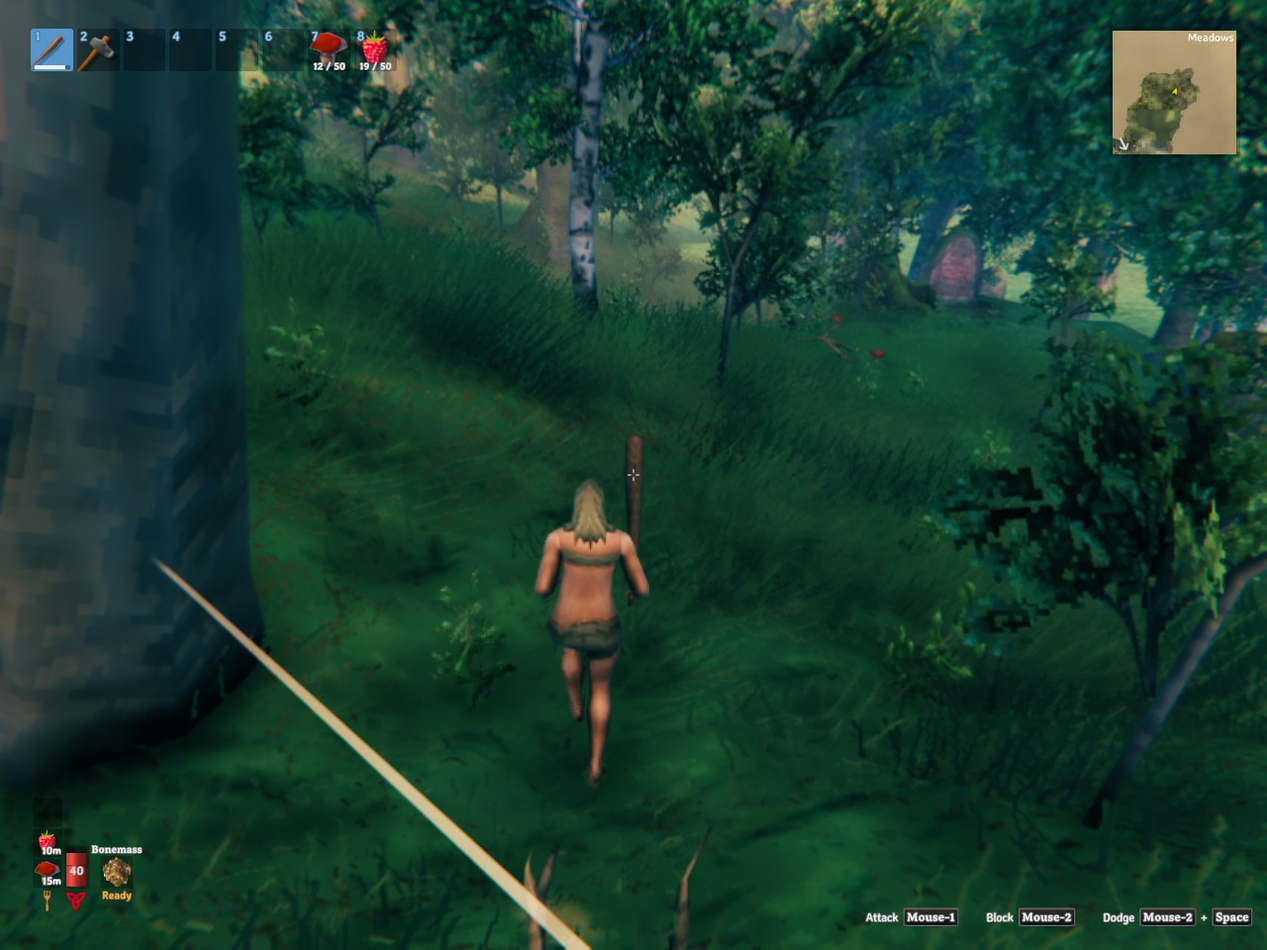Branch: (814, 333, 849, 360)
Mushroom: (870, 348, 884, 358), (829, 315, 841, 323)
